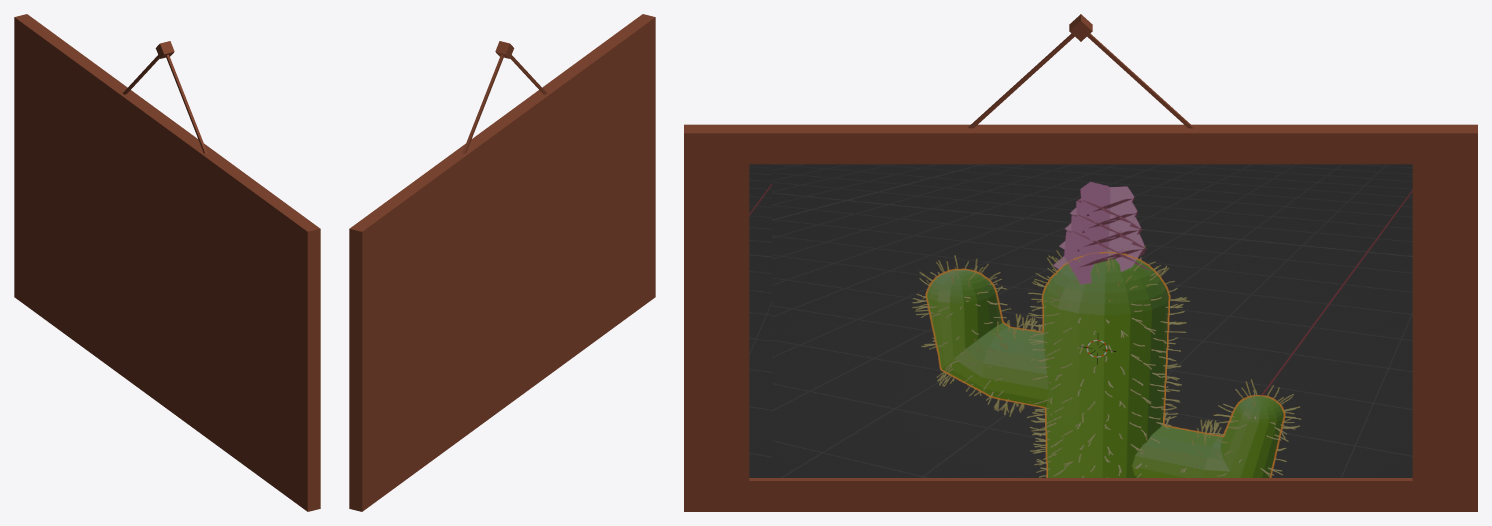
File: picture frame cactus.fbx
3 renders of one model, left to right at view 1: azimuth 30°, elevation 25°; view 2: azimuth 150°, elevation 25°; view 3: azimuth 270°, elevation 25°, orthographic. The views are drawn at different scales.
Parts seen in each view (by area): view 1: Cube; view 2: Cube; view 3: Cube.
Boxes of the visible parts, bbox=[...] form: Cube: bbox=[14, 14, 320, 511]; Cube: bbox=[349, 14, 655, 511]; Cube: bbox=[684, 14, 1477, 511].
Bounding box in the file's own units: 15.39 × 380 × 560.
